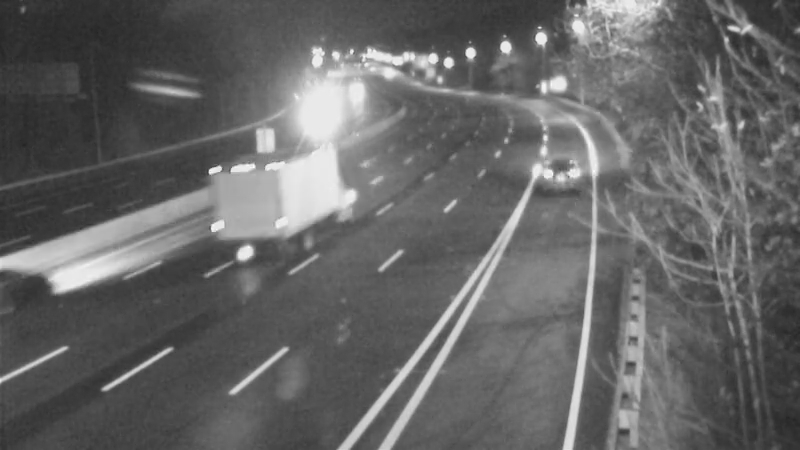vehicle: (522, 132, 602, 212), (221, 151, 301, 231), (363, 49, 413, 99), (287, 100, 337, 150)
